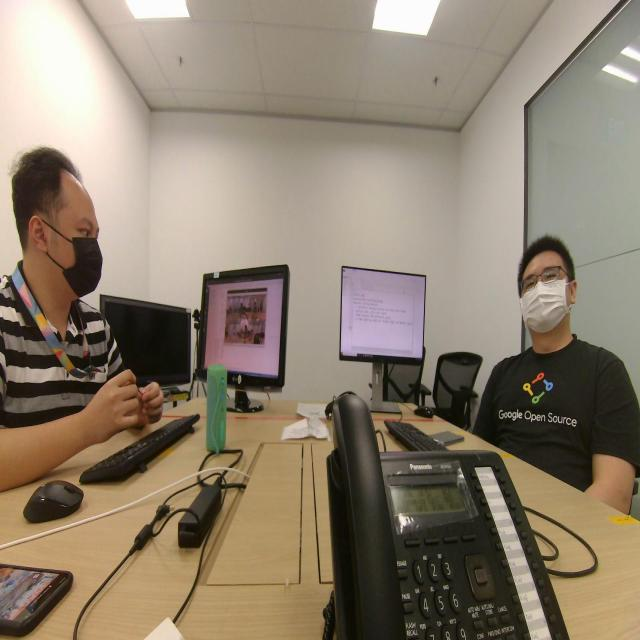obstacle: (478, 178, 608, 457), (11, 120, 112, 427)
